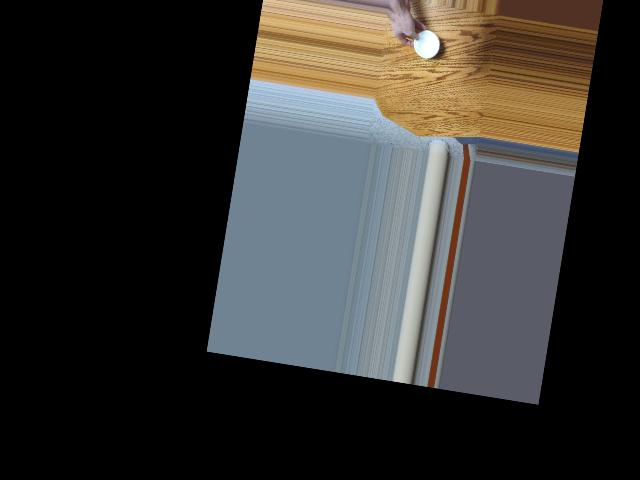cotage: (407, 23, 442, 62)
